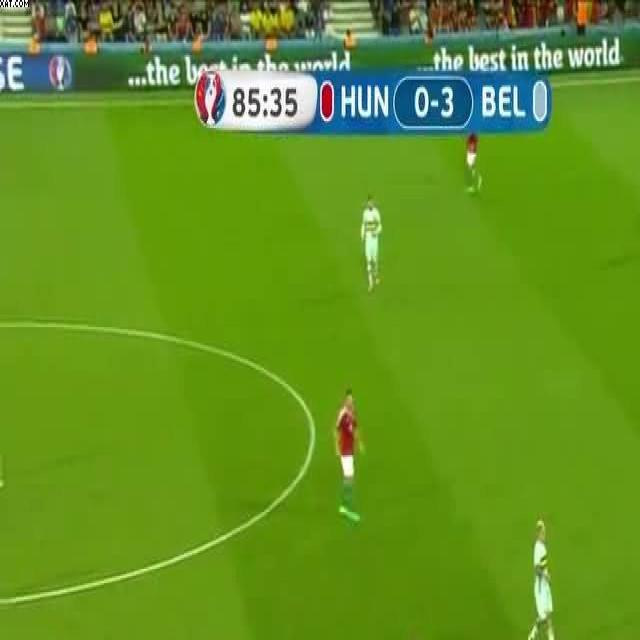player-white: (528, 519, 564, 640), (336, 389, 362, 523), (362, 193, 382, 293), (465, 120, 483, 194)
